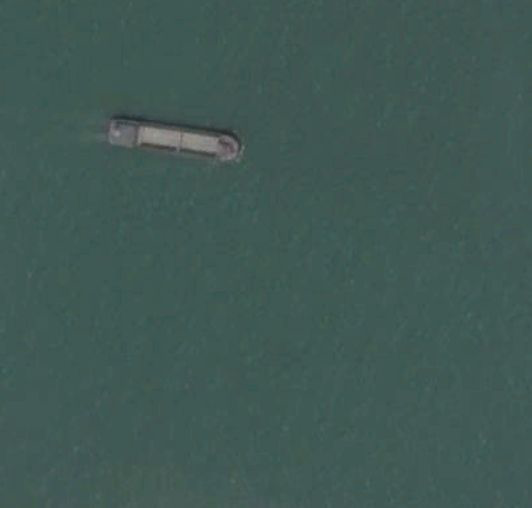boat: (107, 116, 245, 166)
